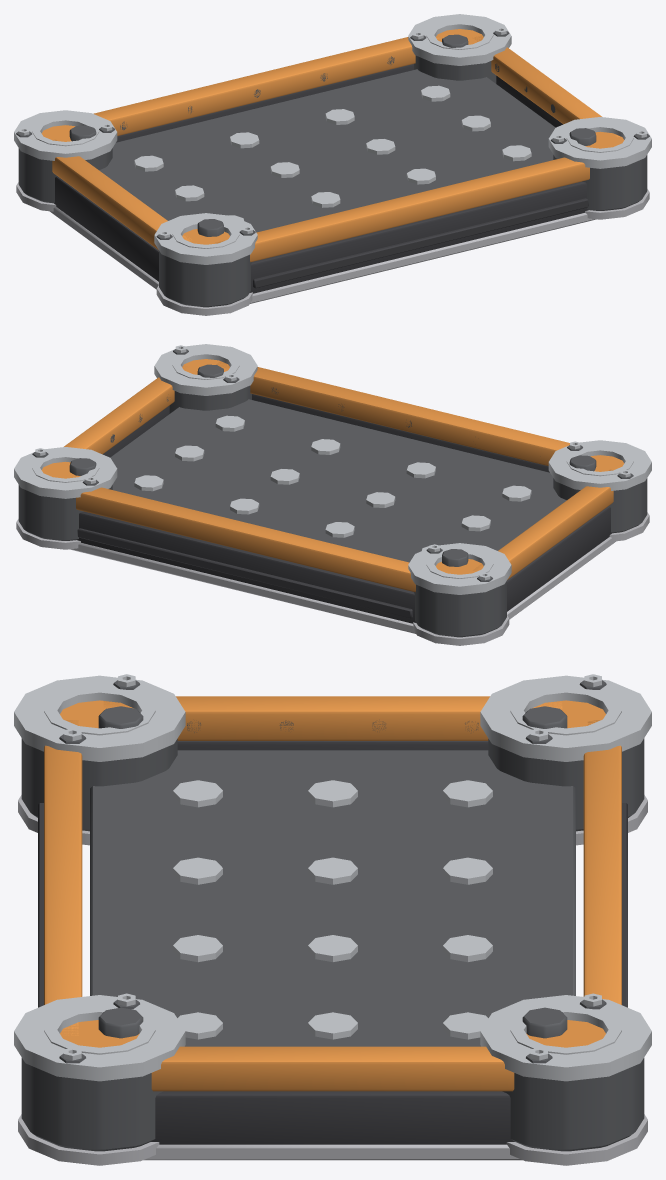
File: hover.glb
3 renders of one model, top to bottom at view 1: azimuth 30°, elevation 25°; view 2: azimuth 150°, elevation 25°; view 3: azimuth 270°, elevation 25°, orthographic. The views are drawn at different scales.
Visible parts, largest first — view 1: body; view 2: body; view 3: body.
Boxes of the visible parts, left/top/right/bottom form: body: left=14, top=14, right=651, bottom=315; body: left=14, top=344, right=651, bottom=645; body: left=14, top=674, right=651, bottom=1165.
Size of the model in its own units: 0.962 by 0.1298 by 0.662.
